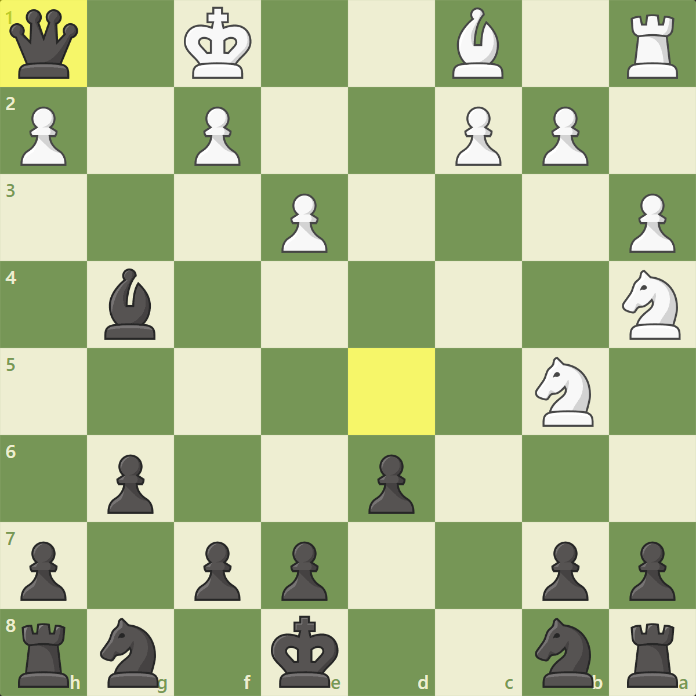B: (448, 6, 507, 82)
K: (182, 4, 255, 82)
N: (532, 354, 597, 429), (619, 268, 683, 342)
P: (19, 105, 68, 168), (193, 105, 242, 168), (280, 193, 329, 256), (454, 105, 503, 168), (542, 105, 591, 168), (628, 192, 677, 255)
R: (623, 12, 682, 81)
b: (101, 266, 159, 344)
k: (270, 613, 341, 690)
n: (99, 616, 162, 691), (534, 616, 595, 690)
p: (18, 539, 69, 604), (103, 452, 154, 517), (191, 537, 242, 602), (276, 537, 327, 602), (365, 451, 416, 516), (538, 538, 589, 603), (626, 538, 677, 603)
q: (7, 6, 81, 81)
r: (13, 621, 73, 691), (624, 621, 681, 690)
